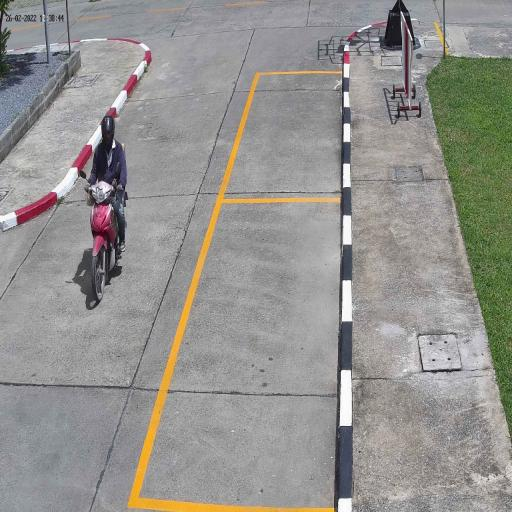motorcycle: (88, 181, 116, 308)
